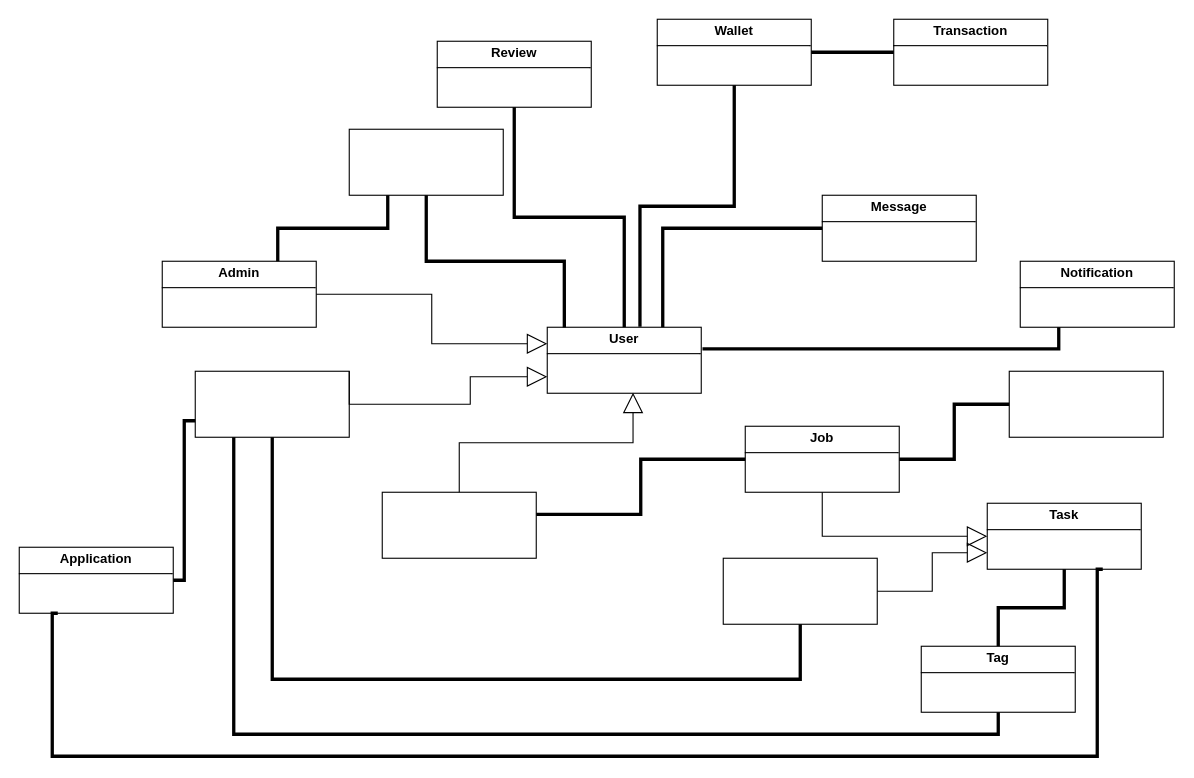
This 1194x778 diagram has some shape labels left out. Here are the shapes that lost their labels. From the top down, the box of each, then its label:
(348, 128, 503, 195): Report
(194, 370, 349, 437): Student
(1008, 370, 1163, 437): Proof
(381, 491, 536, 558): Company
(722, 557, 877, 624): Activity
